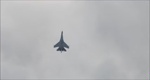maybay_muctieu: (54, 29, 70, 53)
